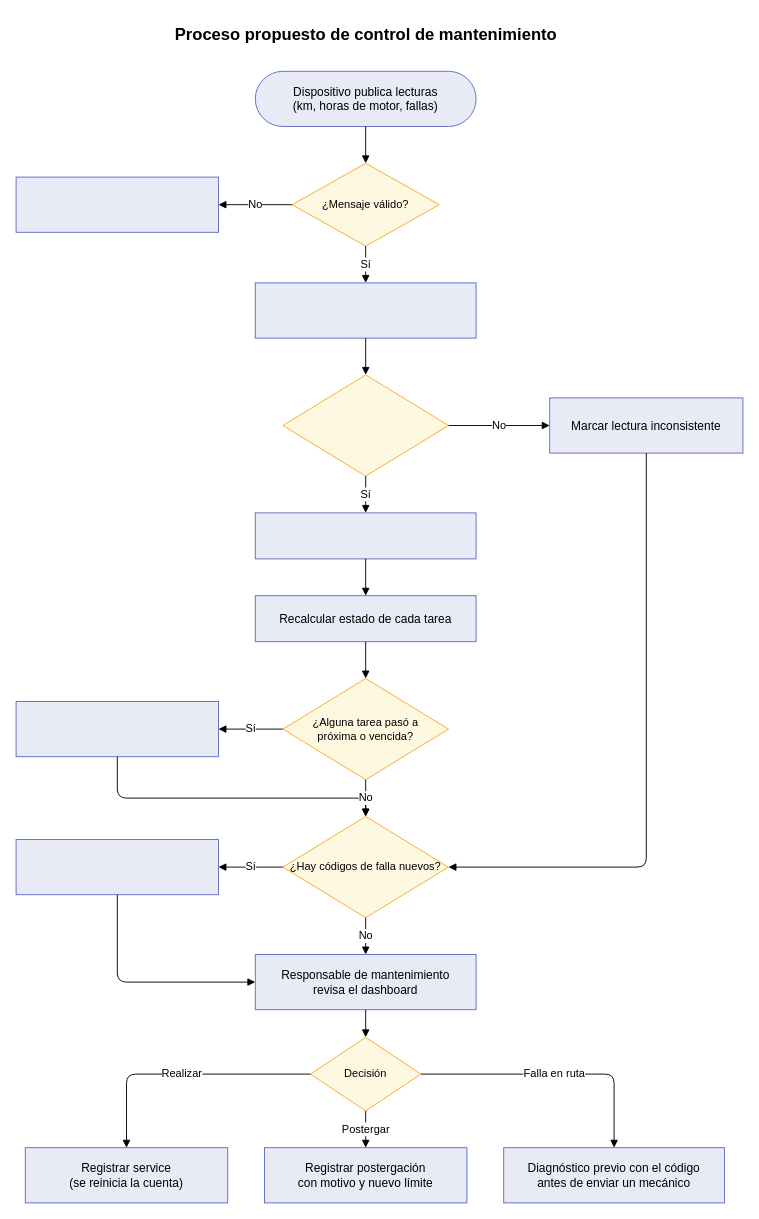
Image size: 759x1219. Some labels were removed from this diagram. The box of each missing label's shape, as (x1, y1, x2, y2) in pixels:
Actualizar km de la unidad: (254, 512, 476, 559)
Descartar y registrar en log: (15, 176, 218, 232)
Generar alerta de falla: (15, 839, 218, 895)
Generar alerta de mantenimiento: (15, 701, 218, 757)
Guardar lecturas y actualizar última comunicación: (254, 282, 476, 338)
¿Km mayor o igual al último registrado?: (282, 374, 448, 476)
